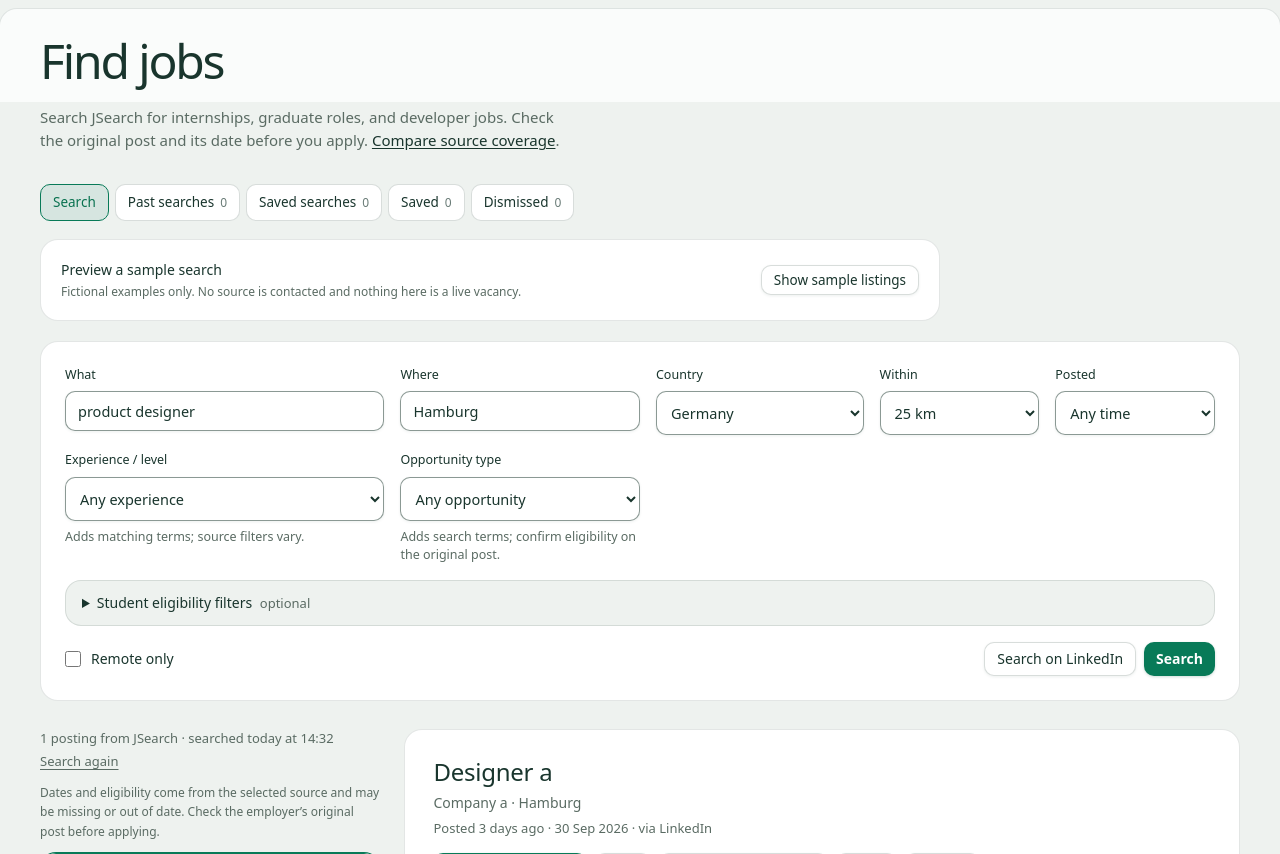
Test case: problems › just says so when the quota is used up
Click the button "Search" at coordinates (1180, 659), box [1144,642,1215,676]
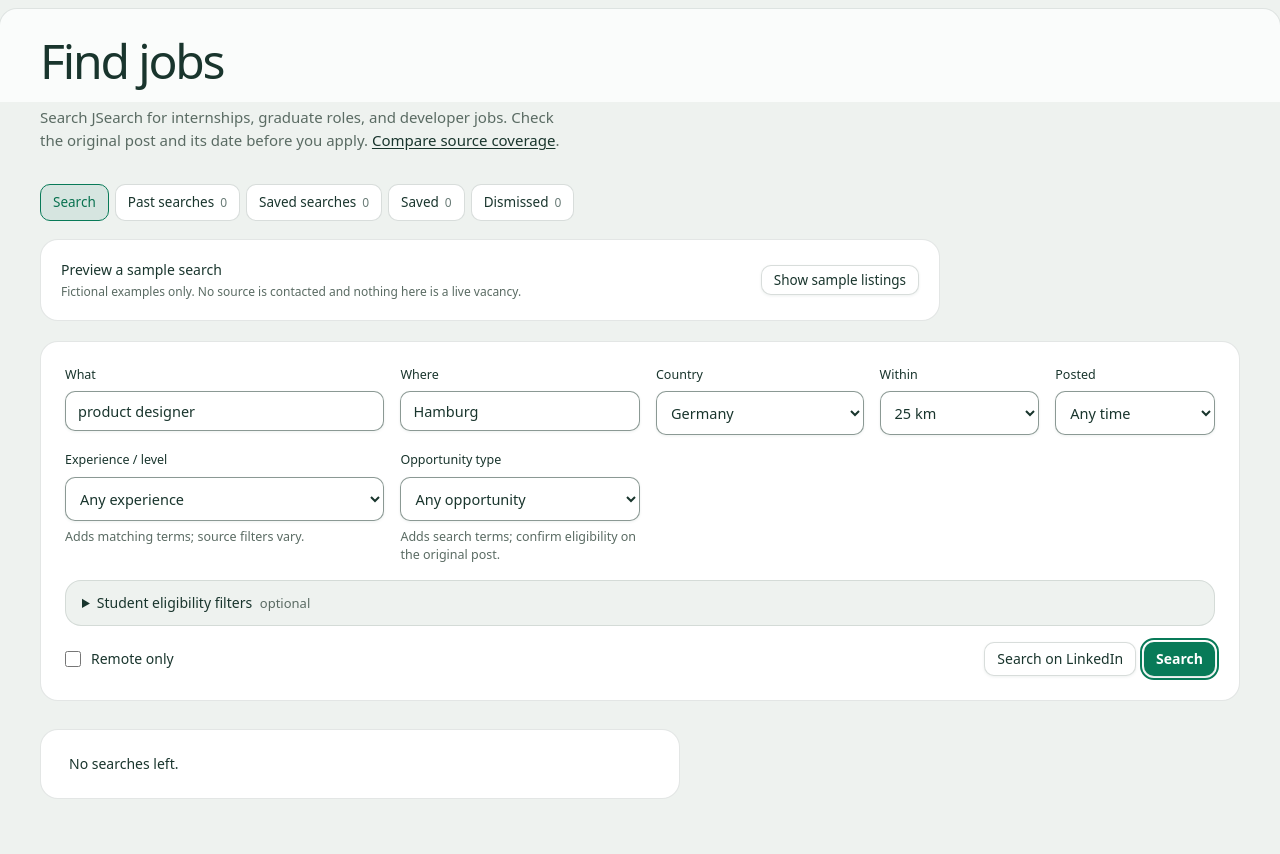
Expected: the message reads "No searches left.", [69,754,178,773]
Expected: the button "Search again" is gone
